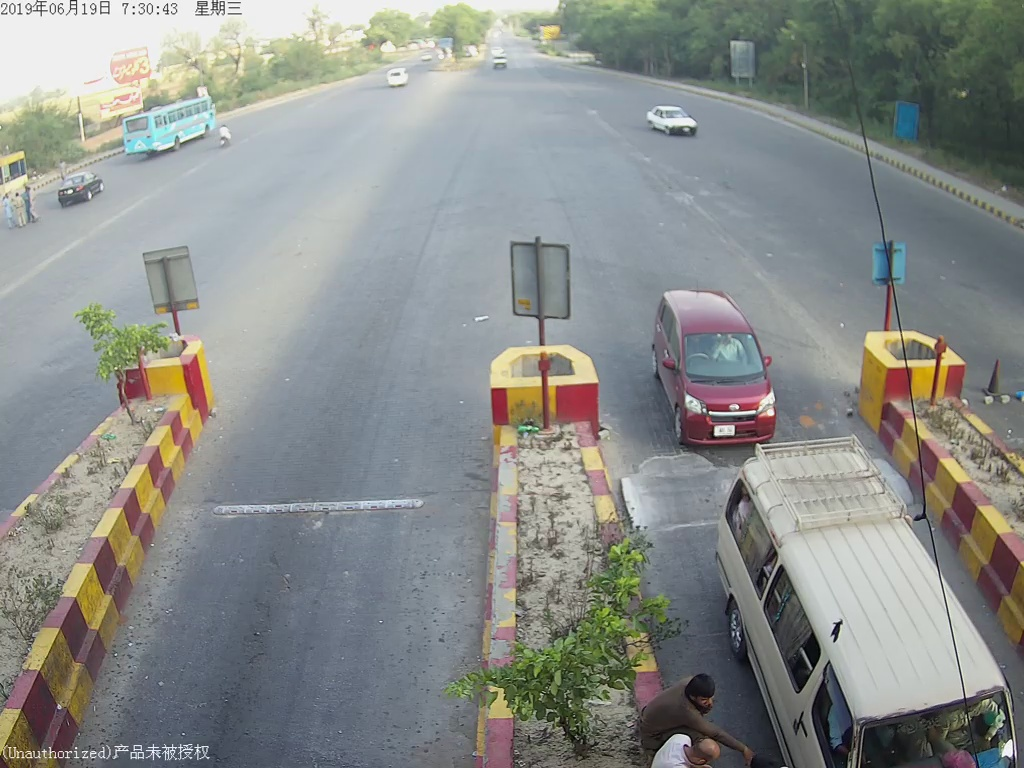Cat-1: (648, 286, 780, 449)
